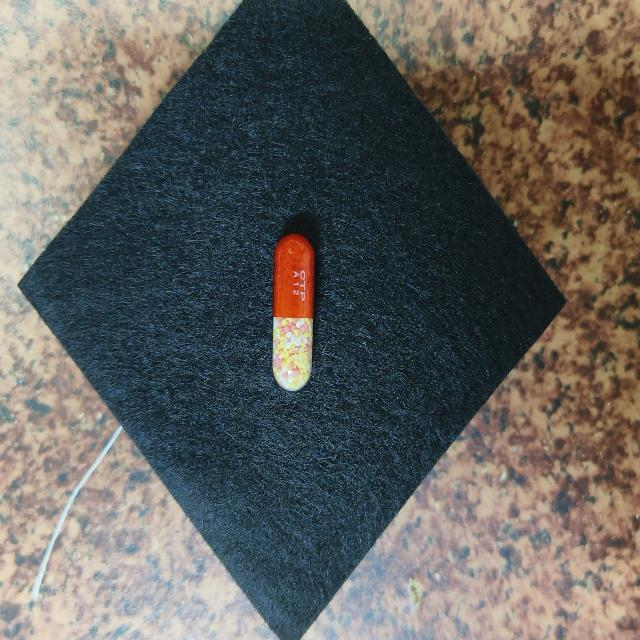Intact Capsule: (273, 233, 315, 391)
